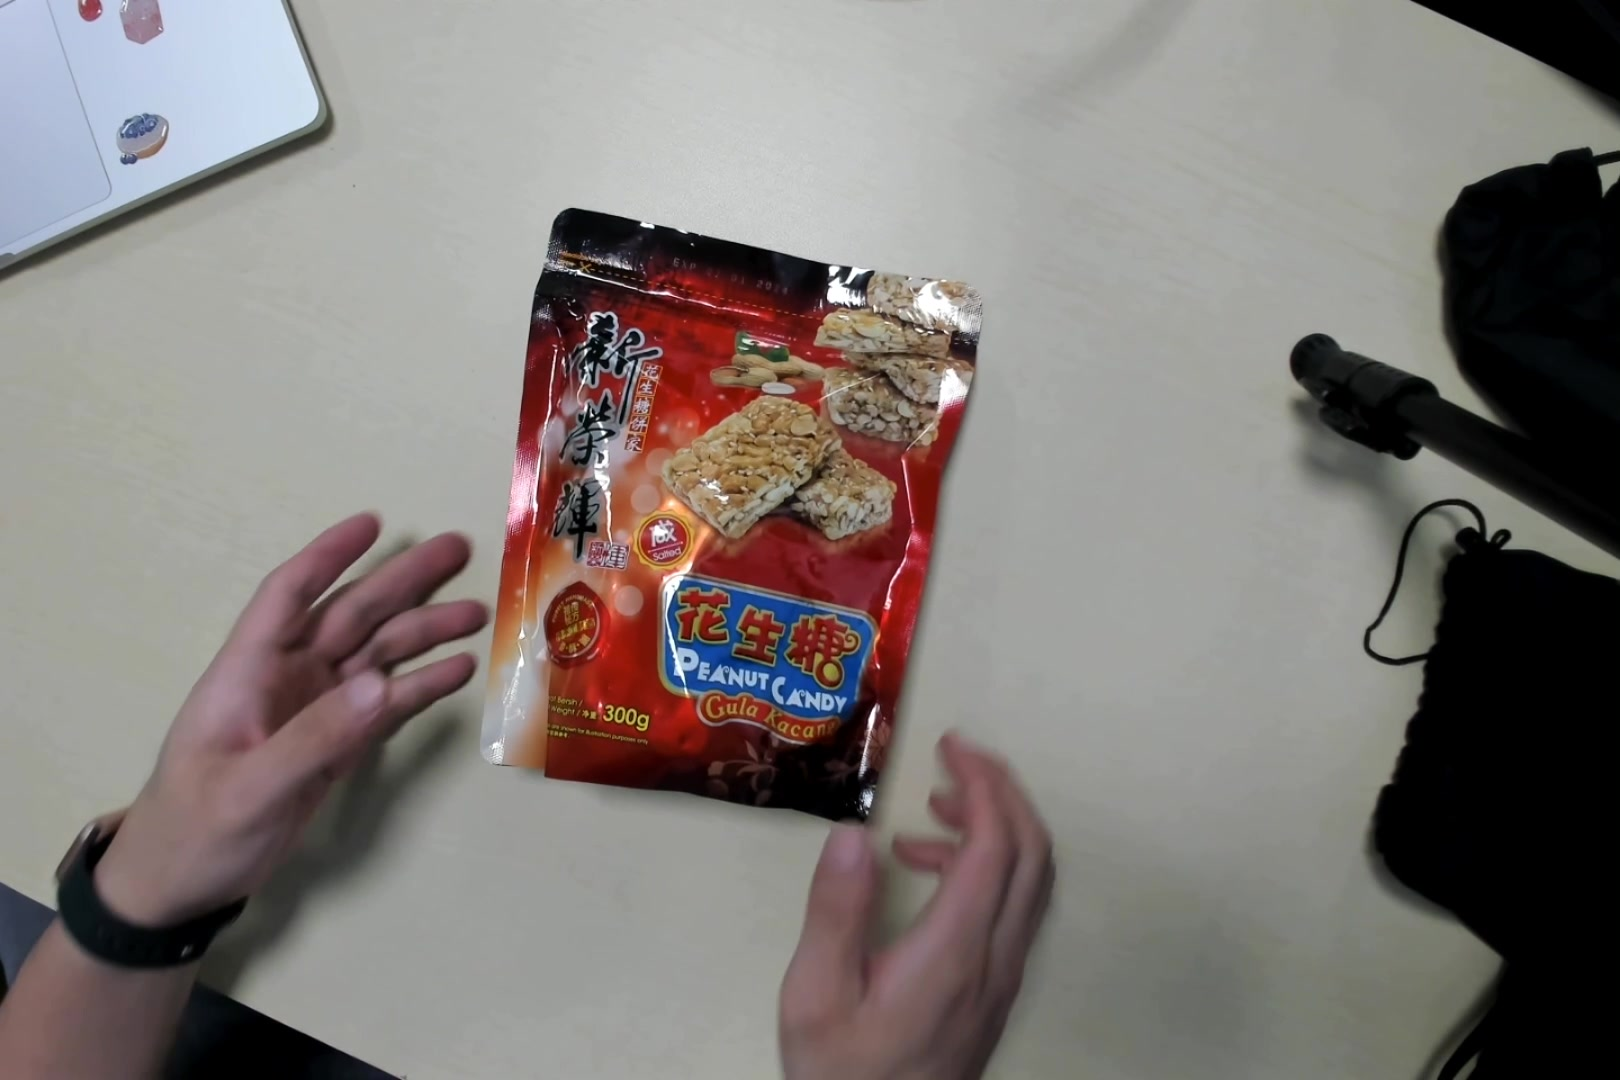SweetsChocolatesOthers_300-399g_NonHalal_NonHealthy: (480, 198, 984, 828)
